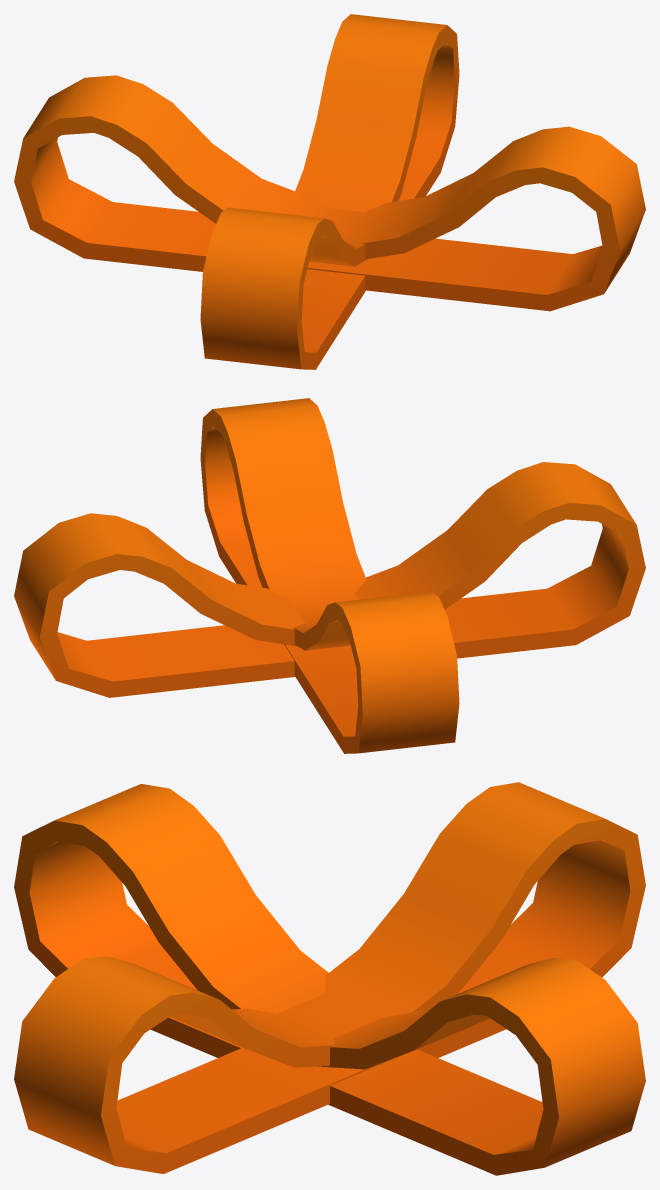
File: bow_009.fbx
3 renders of one model, top to bottom at view 1: azimuth 30°, elevation 25°; view 2: azimuth 150°, elevation 25°; view 3: azimuth 270°, elevation 25°, orthographic. The views are drawn at different scales.
Visible parts, largest first — view 1: bow_009; view 2: bow_009; view 3: bow_009.
Boxes of the visible parts, x1,y1,x2,y2 form: bow_009: (14, 14, 645, 369); bow_009: (14, 398, 645, 753); bow_009: (14, 782, 645, 1175).
Bounding box in the file's own units: 167 × 167 × 51.72.
